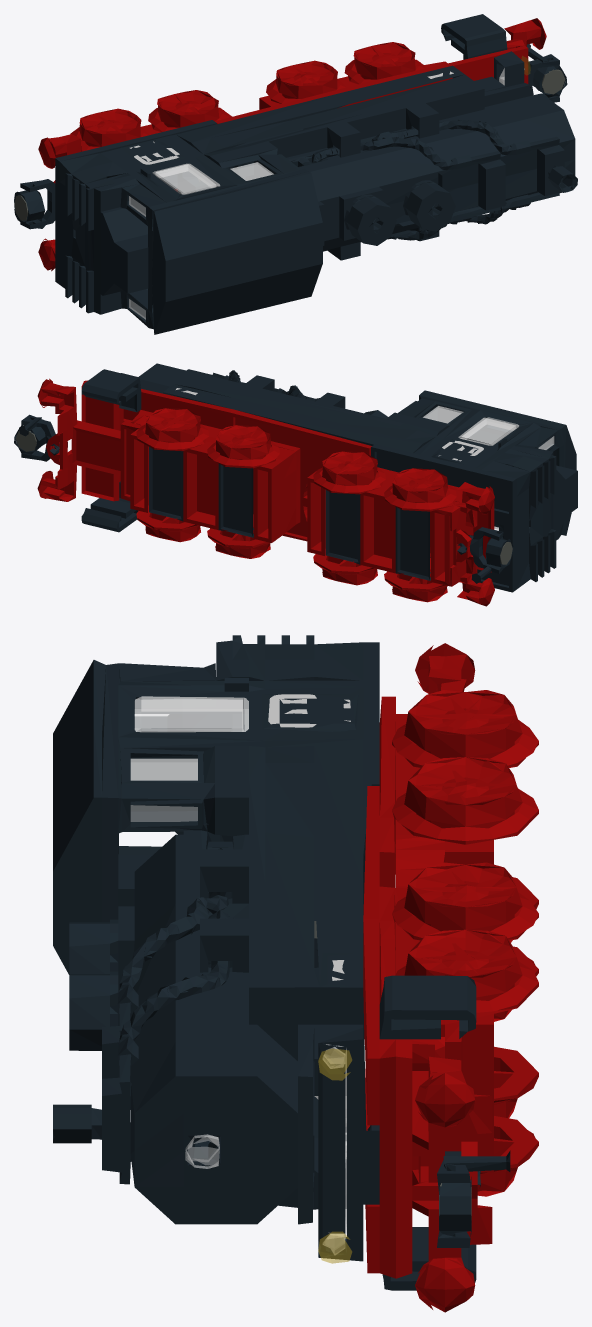
Rendered from locomotive.glb.
The picture shows the model from 3 angles, top to bottom: view 1: azimuth 30°, elevation 25°; view 2: azimuth 150°, elevation 25°; view 3: azimuth 270°, elevation 25°; orthographic projection. The views are drawn at different scales.
Size of the model in its own units: 221 by 60.64 by 95.2.
